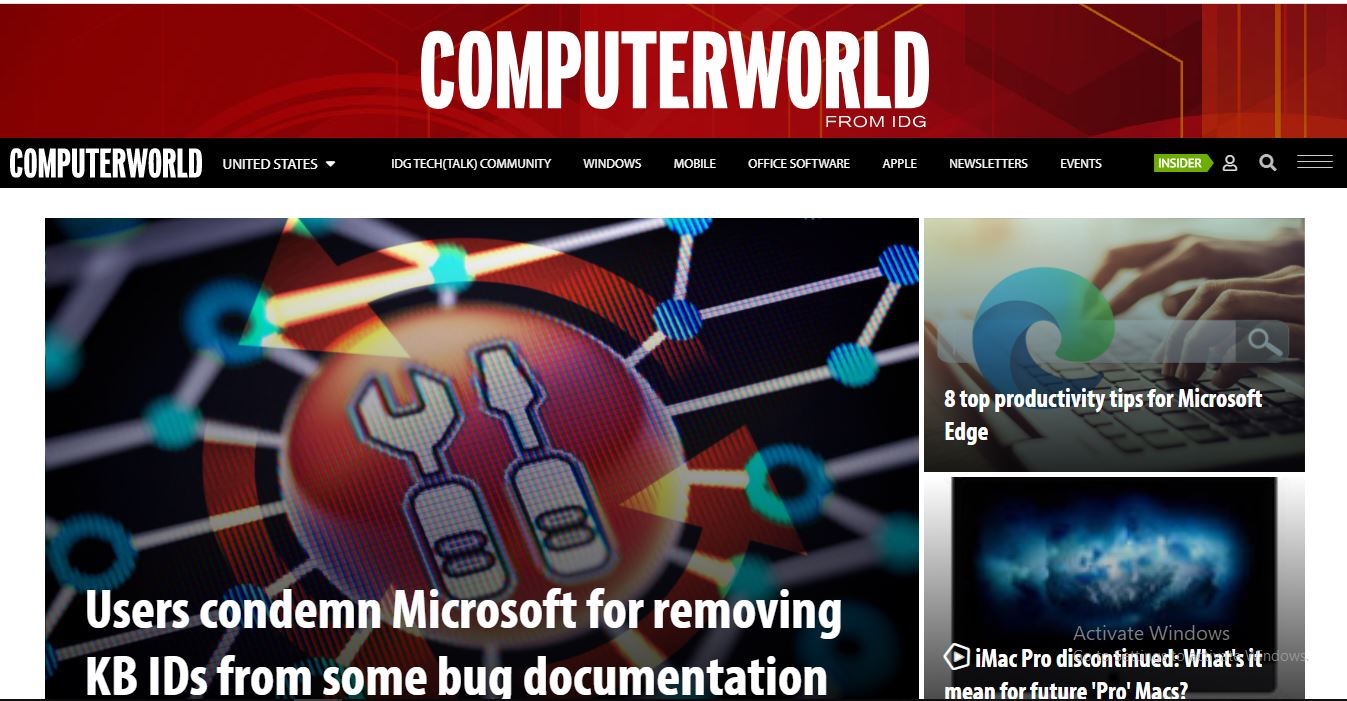Image: (40, 209, 918, 701)
Menu Bar: (217, 140, 1111, 184)
Side Bar: (922, 209, 1315, 694)
